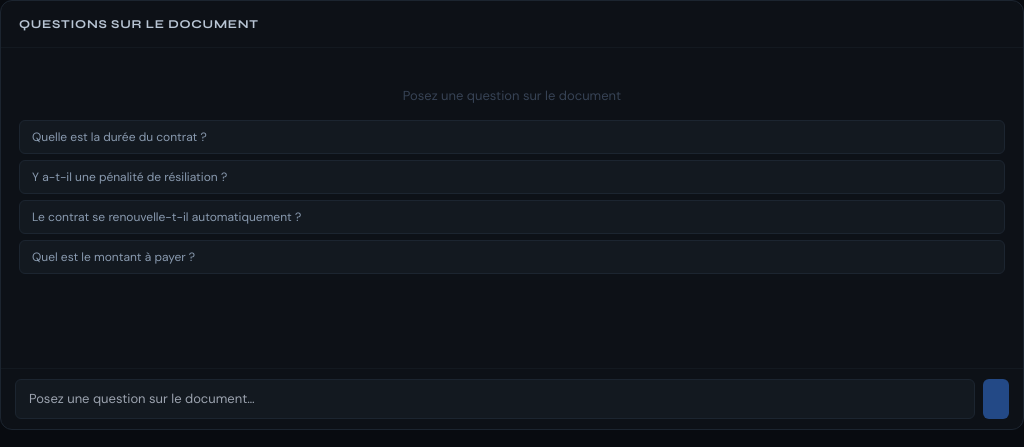
Test: QAChat › affiche la question posée par l'utilisateur
The width and height of the screenshot is (1024, 447).
In the field with placeholder "Posez une question sur le document…": (495, 399) [15,379,975,418], type "Ma question test"
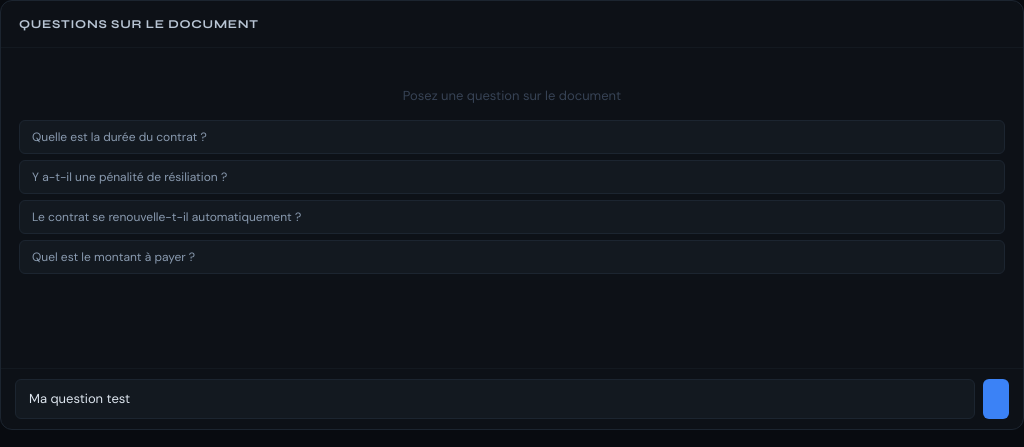
Press Enter in the field with placeholder "Posez une question sur le document…", box [15,379,975,418]
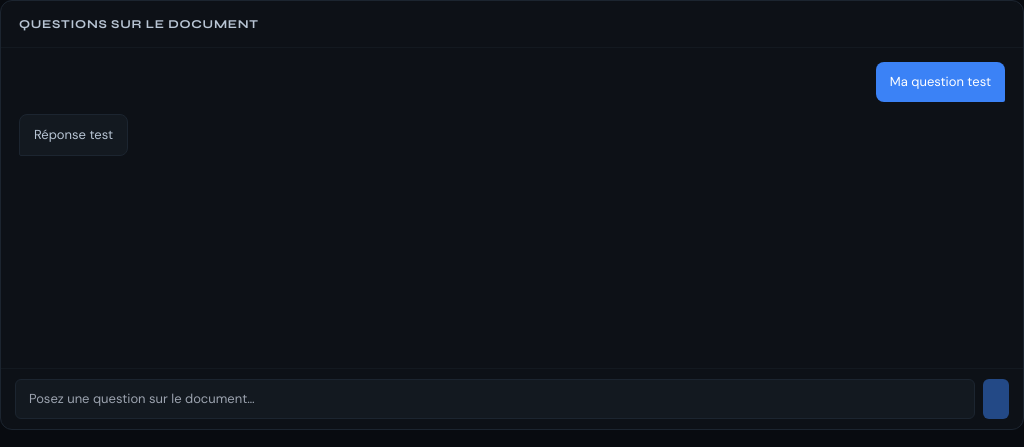
Check: the text "Ma question test" is shown, box [876,62,1005,102]
